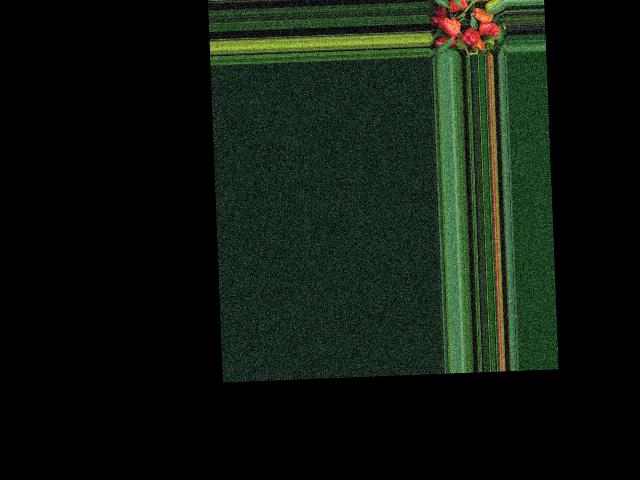bell_pepper: (474, 39, 485, 52)
